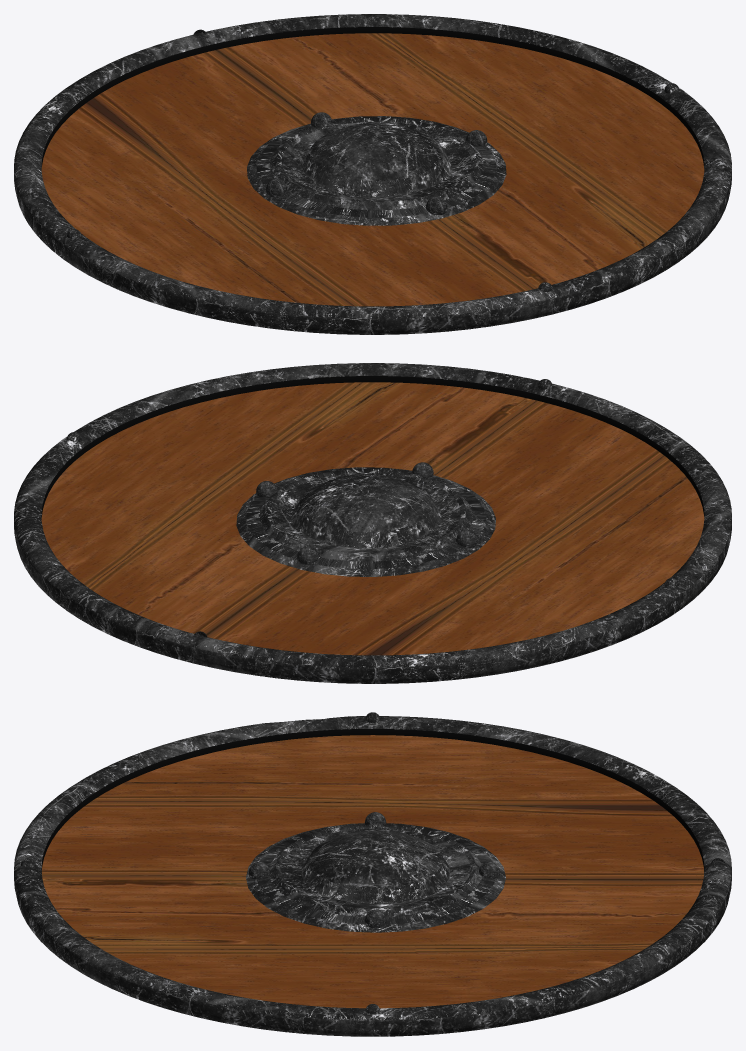
File: vikingShield.glb
3 renders of one model, top to bottom at view 1: azimuth 30°, elevation 25°; view 2: azimuth 150°, elevation 25°; view 3: azimuth 270°, elevation 25°, orthographic.
Visible parts, largest first — view 1: Cylinder.001; view 2: Cylinder.001; view 3: Cylinder.001.
Boxes of the visible parts, bbox=[...] form: Cylinder.001: bbox=[14, 14, 731, 334]; Cylinder.001: bbox=[14, 363, 731, 683]; Cylinder.001: bbox=[14, 712, 731, 1036].
Bounding box in the file's own units: 2.86 × 0.3342 × 2.86.
Materials: 5 (3 with a texture image).
